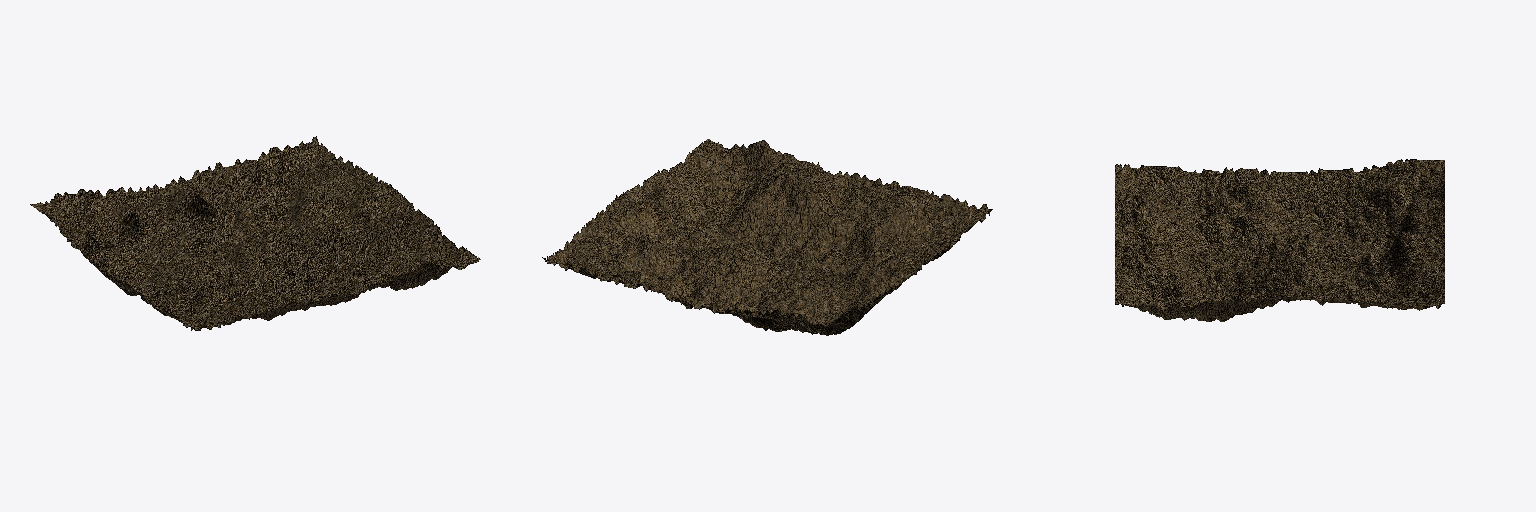
3 views of the same model, side by side, from view 1: azimuth 30°, elevation 25°; view 2: azimuth 150°, elevation 25°; view 3: azimuth 270°, elevation 25° (orthographic).
Visible parts, largest first — view 1: pPlane1; view 2: pPlane1; view 3: pPlane1.
Part boxes in pixels (left/top/right/bottom): pPlane1: left=30, top=136, right=480, bottom=330; pPlane1: left=542, top=139, right=992, bottom=335; pPlane1: left=1115, top=159, right=1444, bottom=321.
Bounding box in the file's own units: 9.07 × 2.09 × 9.07.
Materials: 1 (1 with a texture image).